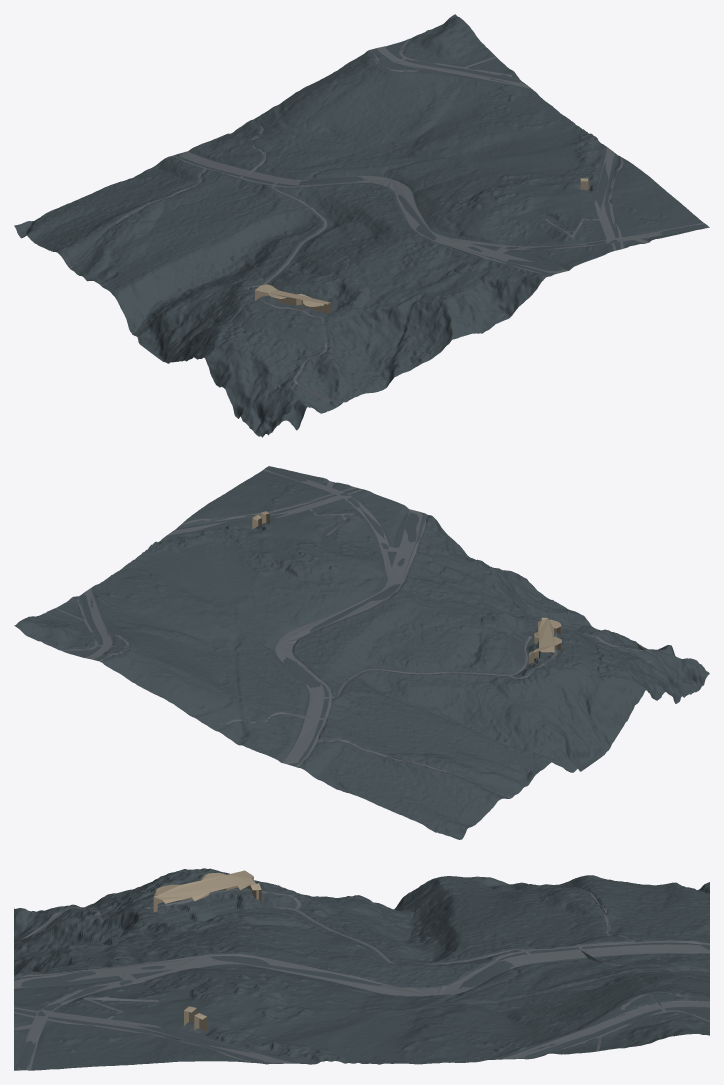
File: epsg26910-1421-10894.lod0.glb
3 renders of one model, top to bottom at view 1: azimuth 30°, elevation 25°; view 2: azimuth 150°, elevation 25°; view 3: azimuth 270°, elevation 25°, orthographic. The views are drawn at different scales.
Parts seen in each view (by area): view 1: epsg26910-1421-10894-lod0; view 2: epsg26910-1421-10894-lod0; view 3: epsg26910-1421-10894-lod0.
Part boxes in pixels (x1,y1,x2,y2): epsg26910-1421-10894-lod0: (14,14,709,437); epsg26910-1421-10894-lod0: (14,466,709,839); epsg26910-1421-10894-lod0: (14,868,709,1070).
Bounding box in the file's own units: 384 × 113 × 384.
